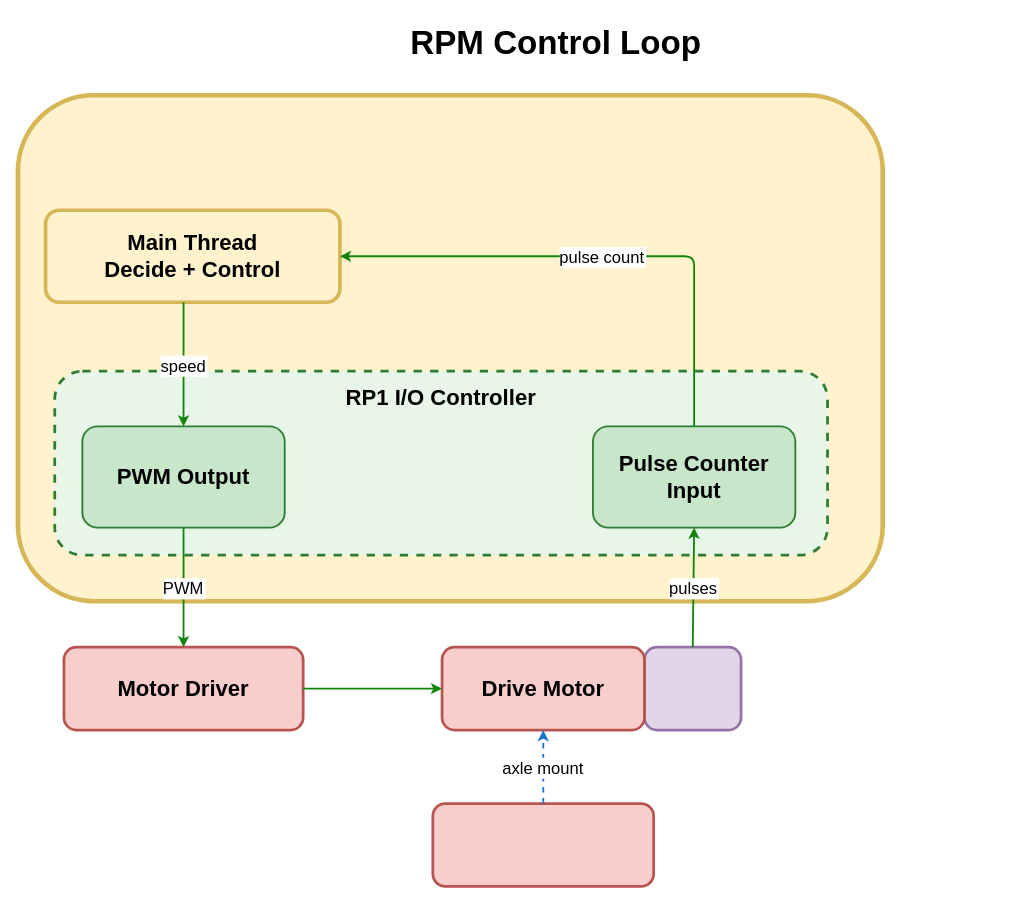
Some shapes in this 1032 by 903 pixel diagram are drawn without their labels. Here are the shapes that lost their labels. From the top down, the box of each, then its label:
(15, 92, 885, 603): Raspberry Pi 5
(643, 645, 742, 731): Motor Encoder
(431, 802, 655, 887): Differential Gear + Rear Wheels
